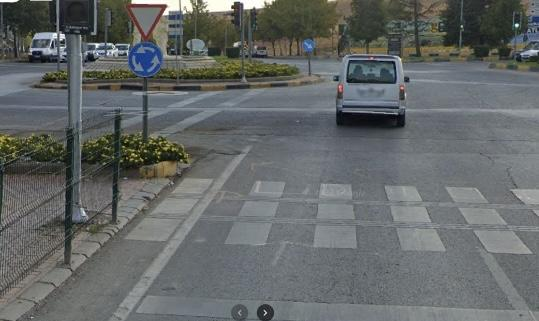crossroads: (130, 44, 162, 75)
greenlight: (513, 11, 522, 31)
